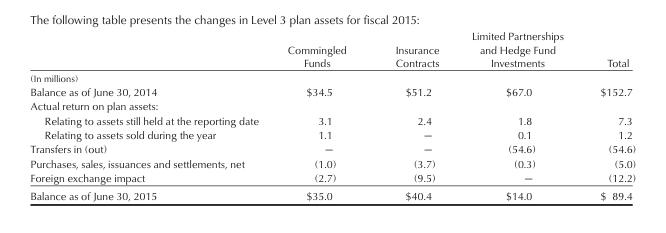table: (29, 29, 635, 202)
table column: (29, 29, 272, 202), (454, 29, 581, 202), (272, 29, 370, 202), (370, 29, 454, 202), (581, 29, 635, 202)
table column header: (29, 29, 635, 84)
table projected row header: (29, 98, 635, 112)
table row: (29, 29, 635, 84), (29, 170, 635, 186), (29, 186, 635, 202), (29, 112, 635, 127), (29, 155, 635, 170), (29, 84, 635, 98), (29, 98, 635, 112), (29, 127, 635, 141), (29, 141, 635, 155)
